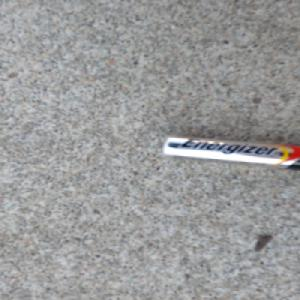Battery: (158, 133, 300, 171)
